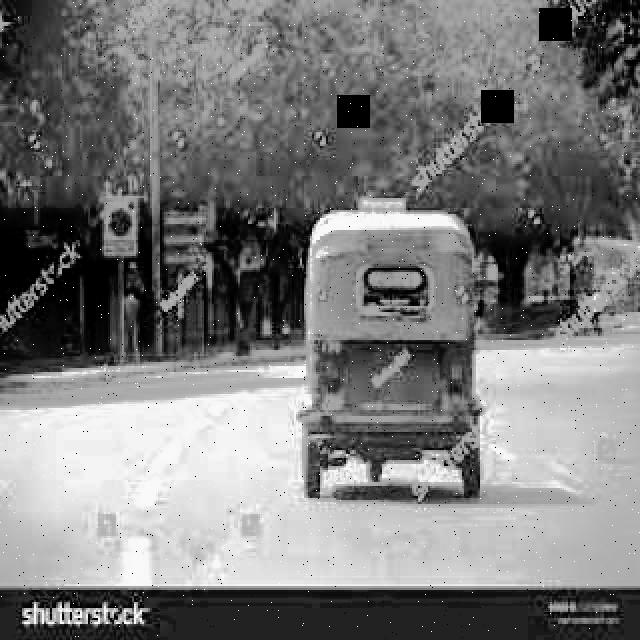Auto-Rickshaw: (284, 192, 542, 532)
